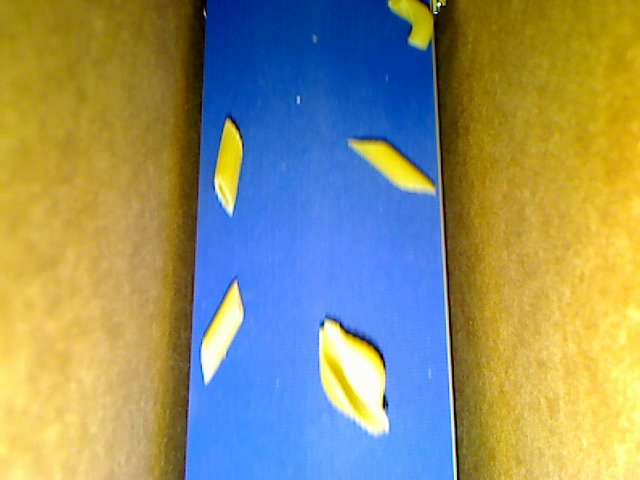elbow: (387, 1, 433, 51)
penne: (347, 138, 437, 194), (199, 277, 244, 387), (215, 117, 243, 216)
shell: (317, 317, 391, 438)
